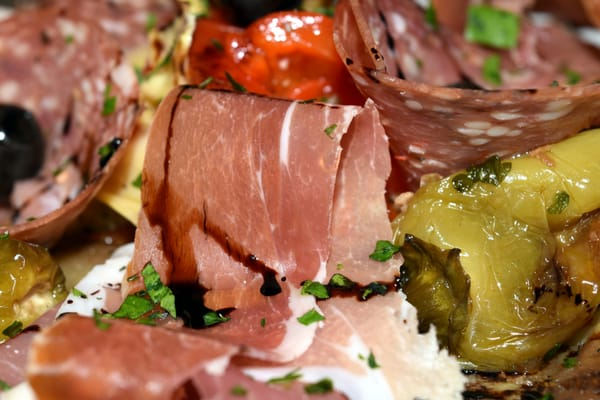soup: (108, 83, 401, 341)
sushi: (0, 2, 156, 248)
